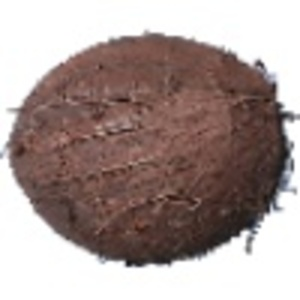coco: (1, 32, 300, 268)
